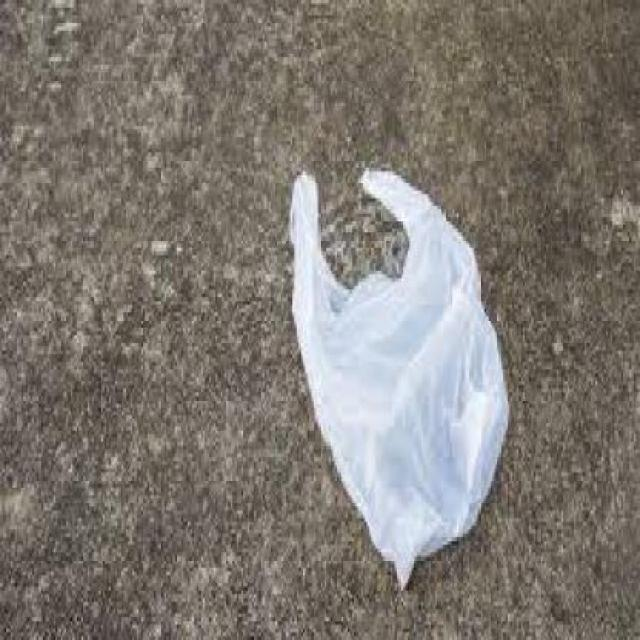PLASTIC: (288, 160, 508, 591)
